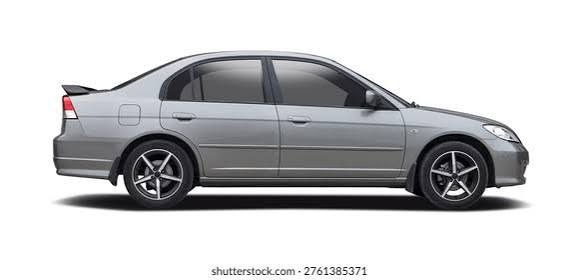car: (54, 50, 530, 208)
